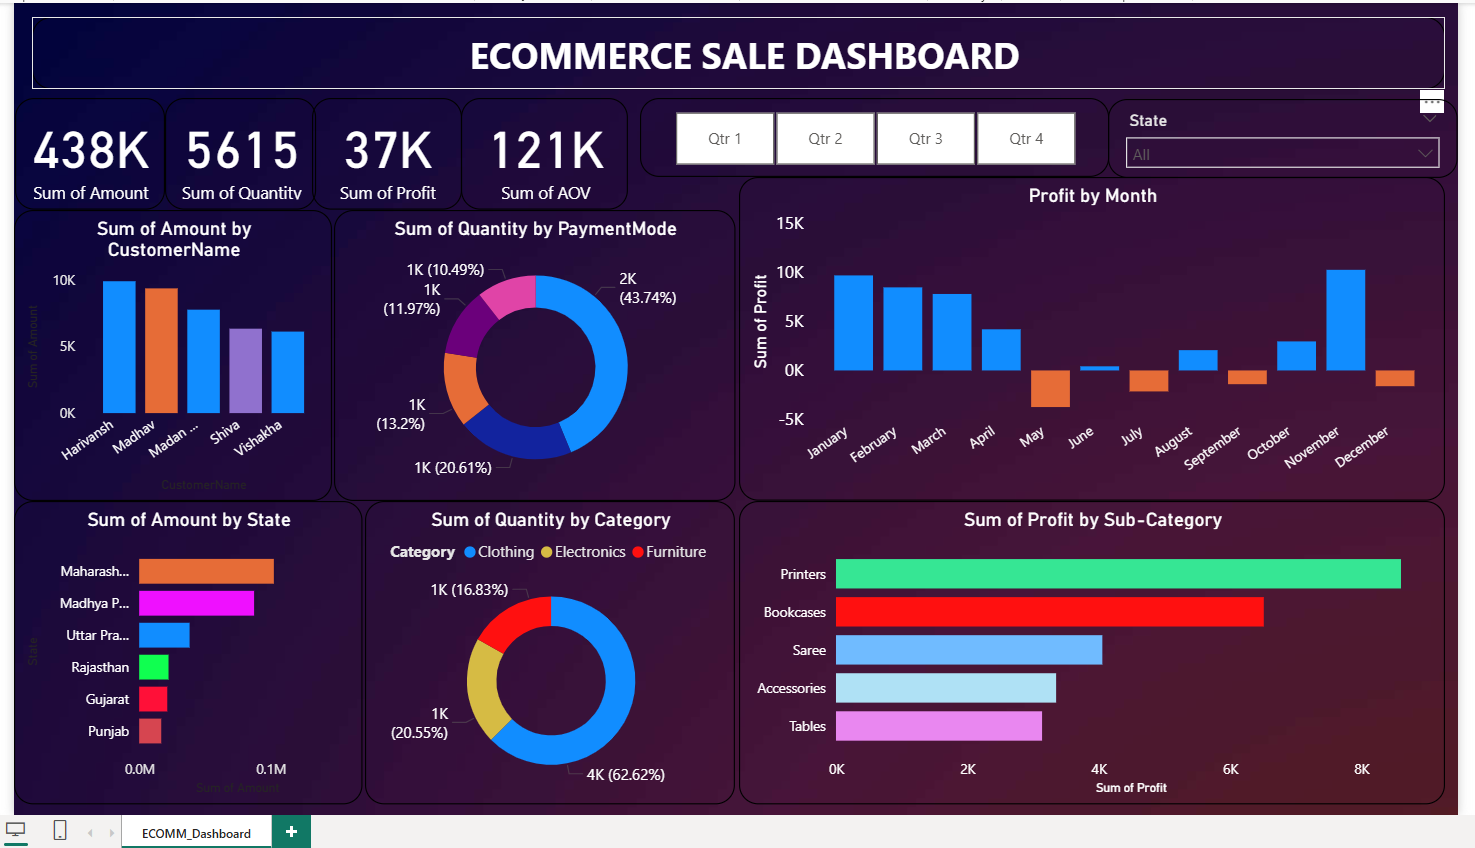

This screenshot's page, from the dashboard's own definition file:
{"tool":"powerbi","page":{"name":"ECOMM_Dashboard","canvas":[1280,720],"ordinal":0},"visuals":[{"type":"textbox","box":[15.7,12.1,1253.1,63.9],"z":0},{"type":"columnChart","title":" Profit by Month","fields":{"Category":["Orders.Order Date.Variation.Date Hierarchy.Month"],"Y":["Details.Profit"]},"box":[642.8,154.4,625.9,287],"z":1000},{"type":"barChart","fields":{"Y":["Details.Profit"],"Category":["Details.Sub-Category"]},"box":[642.8,441.4,625.9,268.9],"z":2000},{"type":"donutChart","fields":{"Category":["Details.Category"],"Y":["Details.Quantity"]},"box":[311.2,441.4,328,268.9],"z":3000},{"type":"donutChart","fields":{"Y":["Details.Quantity"],"Category":["Details.PaymentMode"]},"box":[283.4,183.3,355.8,258.1],"z":4000},{"type":"card","fields":{"Values":["Details.Amount"]},"box":[1.2,84.4,132.7,98.9],"z":5000},{"type":"card","fields":{"Values":["Details.Quantity"]},"box":[133.9,84.4,133.9,98.9],"z":6000},{"type":"card","fields":{"Values":["Details.Profit"]},"box":[264.1,84.4,132.7,98.9],"z":7000},{"type":"card","fields":{"Values":["Details.AOV"]},"box":[396.8,84.4,148.3,98.9],"z":8000},{"type":"barChart","fields":{"Y":["Details.Amount"],"Category":["Orders.State"]},"box":[0,441.4,308.7,268.9],"z":9000},{"type":"columnChart","fields":{"Category":["Orders.CustomerName"],"Y":["Details.Amount"]},"box":[0,183.3,282.2,258.1],"z":10000},{"type":"slicer","fields":{"Values":["Orders.Order Date.Variation.Date Hierarchy.Quarter"]},"box":[554.8,84.4,416.1,69.9],"z":11000},{"type":"slicer","fields":{"Values":["Orders.State"]},"box":[970.3,84.7,310.2,69.7],"z":12000}]}

Visuals, with their boxes on the page's 1280x720 design canvas (x1, y1, x2, y2). These are canvas units, not pixel positions in the 1475x848 screenshot, which may show the page scaled, cropped or inside an application window:
textbox: {"left": 16, "top": 12, "right": 1269, "bottom": 76}
" Profit by Month" columnChart: {"left": 643, "top": 154, "right": 1269, "bottom": 441}
barChart - Details.Profit x Details.Sub-Category: {"left": 643, "top": 441, "right": 1269, "bottom": 710}
donutChart - Details.Category x Details.Quantity: {"left": 311, "top": 441, "right": 639, "bottom": 710}
donutChart - Details.Quantity x Details.PaymentMode: {"left": 283, "top": 183, "right": 639, "bottom": 441}
card - Details.Amount: {"left": 1, "top": 84, "right": 134, "bottom": 183}
card - Details.Quantity: {"left": 134, "top": 84, "right": 268, "bottom": 183}
card - Details.Profit: {"left": 264, "top": 84, "right": 397, "bottom": 183}
card - Details.AOV: {"left": 397, "top": 84, "right": 545, "bottom": 183}
barChart - Details.Amount x Orders.State: {"left": 0, "top": 441, "right": 309, "bottom": 710}
columnChart - Orders.CustomerName x Details.Amount: {"left": 0, "top": 183, "right": 282, "bottom": 441}
slicer - Orders.Order Date.Variation.Date Hierarchy.Quarter: {"left": 555, "top": 84, "right": 971, "bottom": 154}
slicer - Orders.State: {"left": 970, "top": 85, "right": 1280, "bottom": 154}
